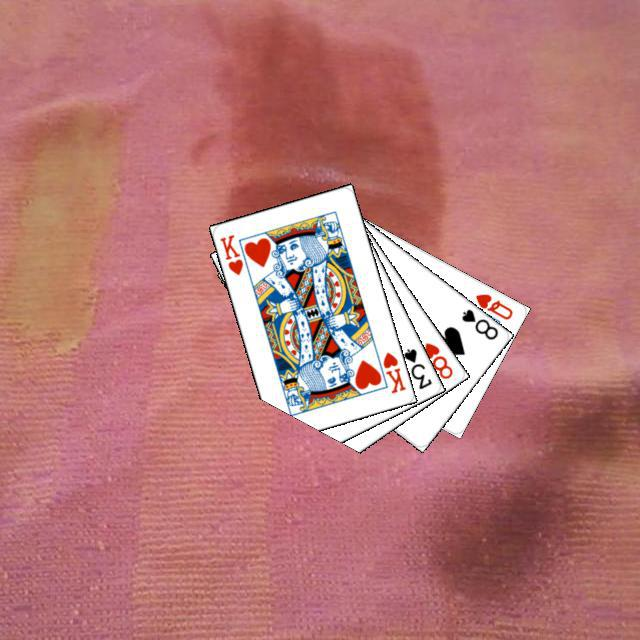3s: (398, 343, 433, 391)
8h: (419, 338, 455, 381)
8s: (457, 304, 500, 342)
Kh: (370, 346, 407, 395), (215, 229, 245, 277)
Qh: (470, 289, 515, 321)
